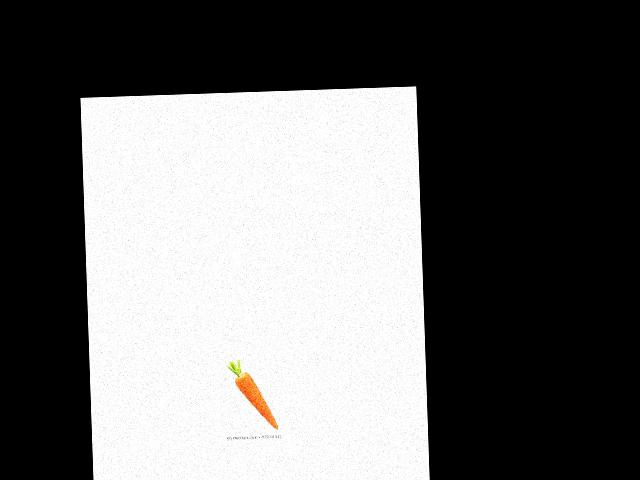carrot: (228, 367, 282, 433)
